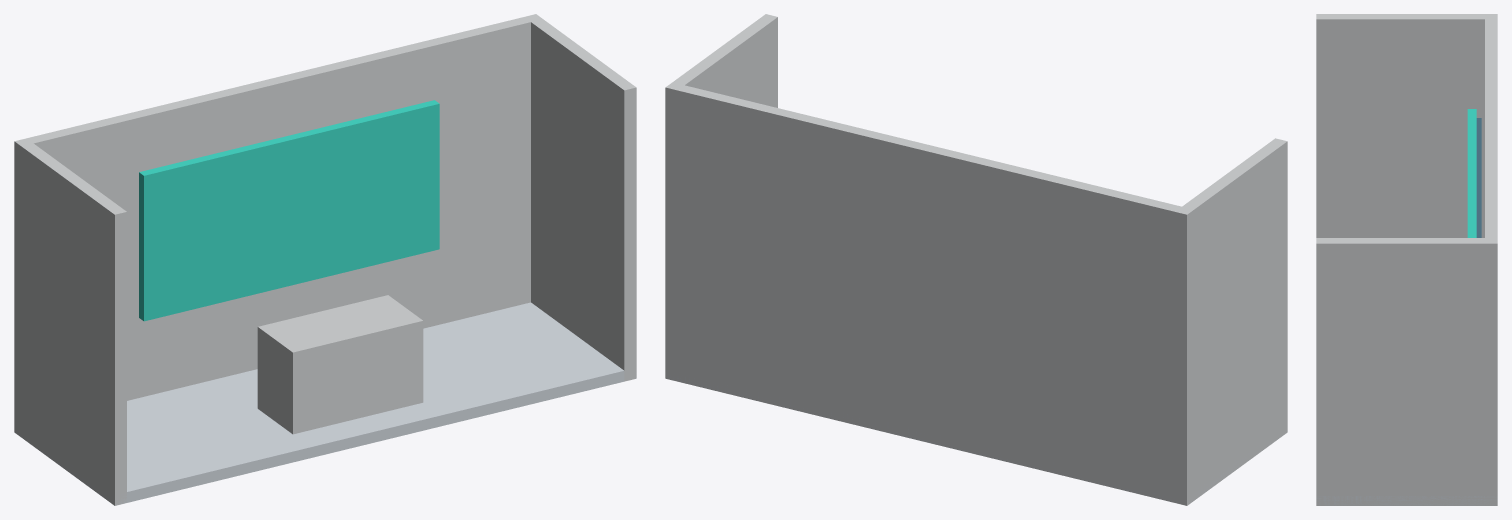
3 views of the same model, side by side, from view 1: azimuth 30°, elevation 25°; view 2: azimuth 150°, elevation 25°; view 3: azimuth 270°, elevation 25° (orthographic). The views are drawn at different scales.
Parts seen in each view (by area): view 1: Exhibition Booth Concept; view 2: Exhibition Booth Concept; view 3: Exhibition Booth Concept.
Part boxes in pixels (x1=…): Exhibition Booth Concept: x1=14, y1=14, x2=636, y2=505; Exhibition Booth Concept: x1=665, y1=14, x2=1287, y2=505; Exhibition Booth Concept: x1=1316, y1=14, x2=1497, y2=505.
Bounding box in the file's own units: 6 × 3.2 × 2.
